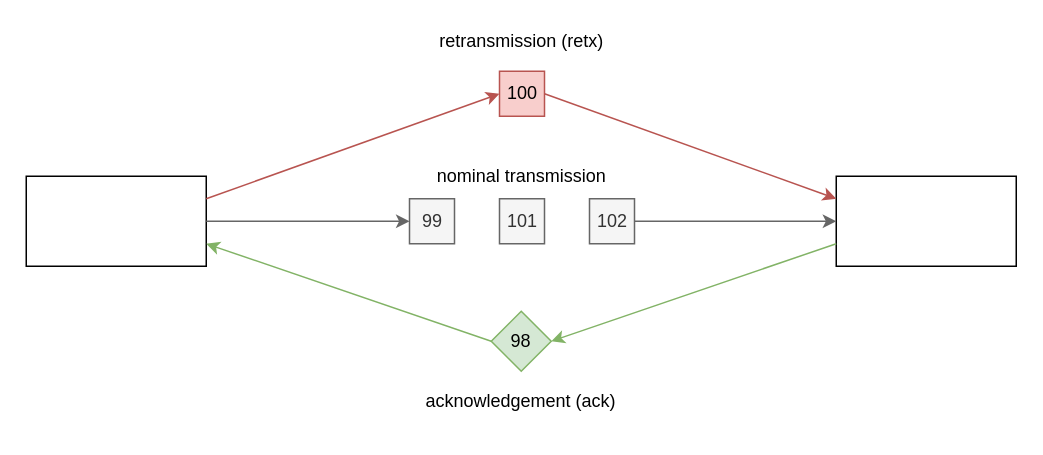
The diagram is 1043 pixels wide and 455 high, and some of its shapes have lost their labels. Here are the shapes that lost their labels. From the top down, the box of each, then its label:
(25, 175, 206, 266): txPortal
(835, 175, 1016, 266): rxPortal
